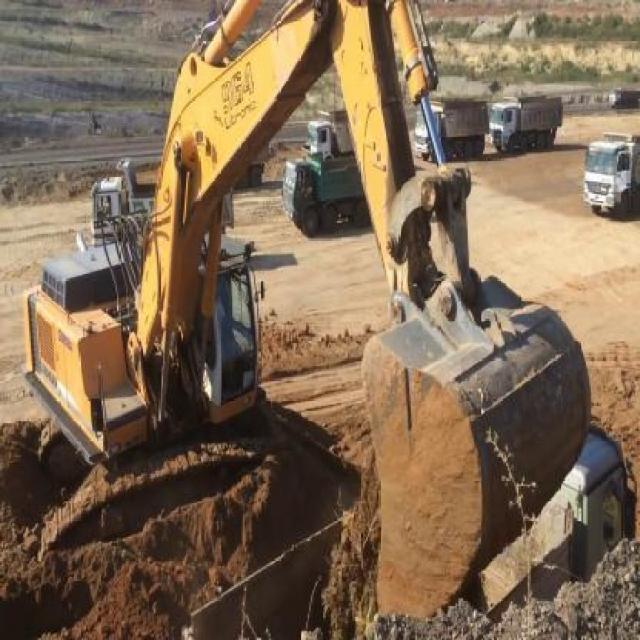Dump Truck: (90, 168, 235, 245), (280, 148, 378, 232), (410, 101, 484, 164), (580, 130, 634, 212), (486, 96, 562, 153)
Excavator: (15, 0, 596, 638)
